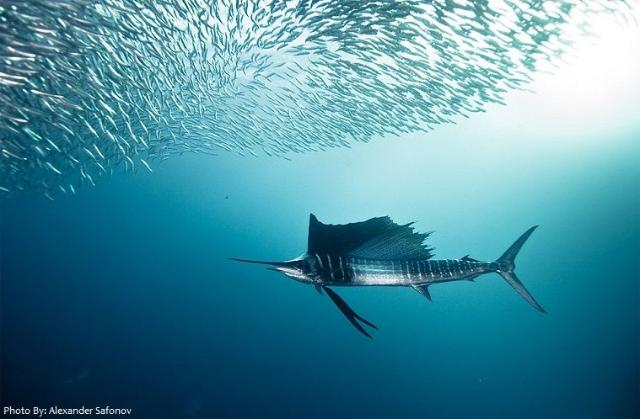Mulut: (227, 246, 306, 290)
Sirip Anal: (456, 244, 488, 292)
Sirip Dada: (310, 270, 330, 300)
Sirip Ekor: (495, 218, 557, 320)
Sirip Perut: (404, 274, 440, 308)
Sirip Punggung: (294, 202, 440, 268)
